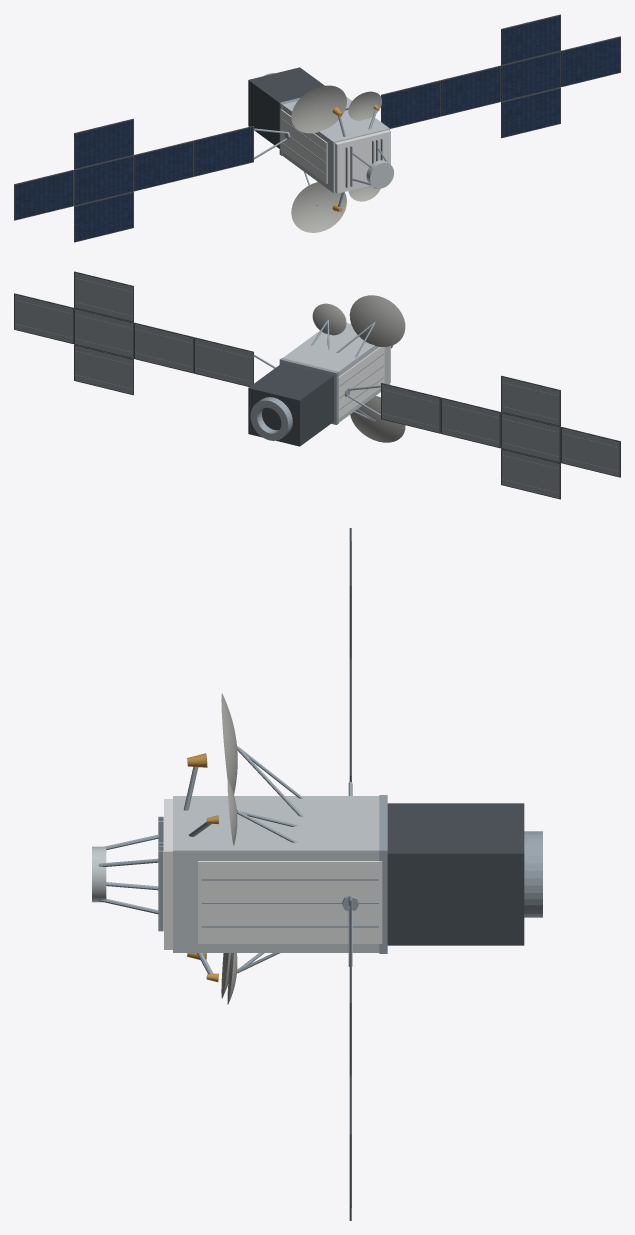
Rendered from ref-ssl-1300s-38087.glb.
The picture shows the model from 3 angles, top to bottom: view 1: azimuth 30°, elevation 25°; view 2: azimuth 150°, elevation 25°; view 3: azimuth 270°, elevation 25°; orthographic projection. The views are drawn at different scales.
Visible parts, largest first — view 1: Solar cell panel (×12), Communications reflector (×4), Service module, Earth-facing deck, Payload module, Radiator face, Antenna tower platform; view 2: Rear array substrate (×12), Service module, Communications reflector (×3), Payload module, Radiator face, Launch adapter ring, Module interface; view 3: Service module, Payload module, Radiator face, Launch adapter ring, Earth-facing deck, Module interface, Communications reflector.
Part boxes in pixels (x1,y1,x2,y2): Solar cell panel (×12): (15, 16, 620, 241); Communications reflector (×4): (291, 85, 381, 232); Service module: (248, 67, 324, 148); Earth-facing deck: (335, 130, 390, 193); Payload module: (282, 96, 389, 193); Radiator face: (280, 109, 327, 183); Antenna tower platform: (366, 160, 393, 188); Rear array substrate (×12): (15, 273, 619, 498); Service module: (248, 363, 333, 446); Communications reflector (×3): (312, 295, 405, 442); Payload module: (283, 324, 389, 422); Radiator face: (338, 347, 384, 418); Launch adapter ring: (250, 397, 292, 440); Module interface: (279, 358, 338, 424); Service module: (387, 803, 524, 945); Payload module: (173, 796, 379, 952); Radiator face: (198, 861, 382, 943); Launch adapter ring: (524, 831, 542, 917); Earth-facing deck: (164, 799, 172, 949); Module interface: (379, 795, 387, 953); Communications reflector: (221, 693, 237, 794).
Bounding box in the file's own units: 32.37 × 7.43 × 10.42.
8 materials, 1 textured.
